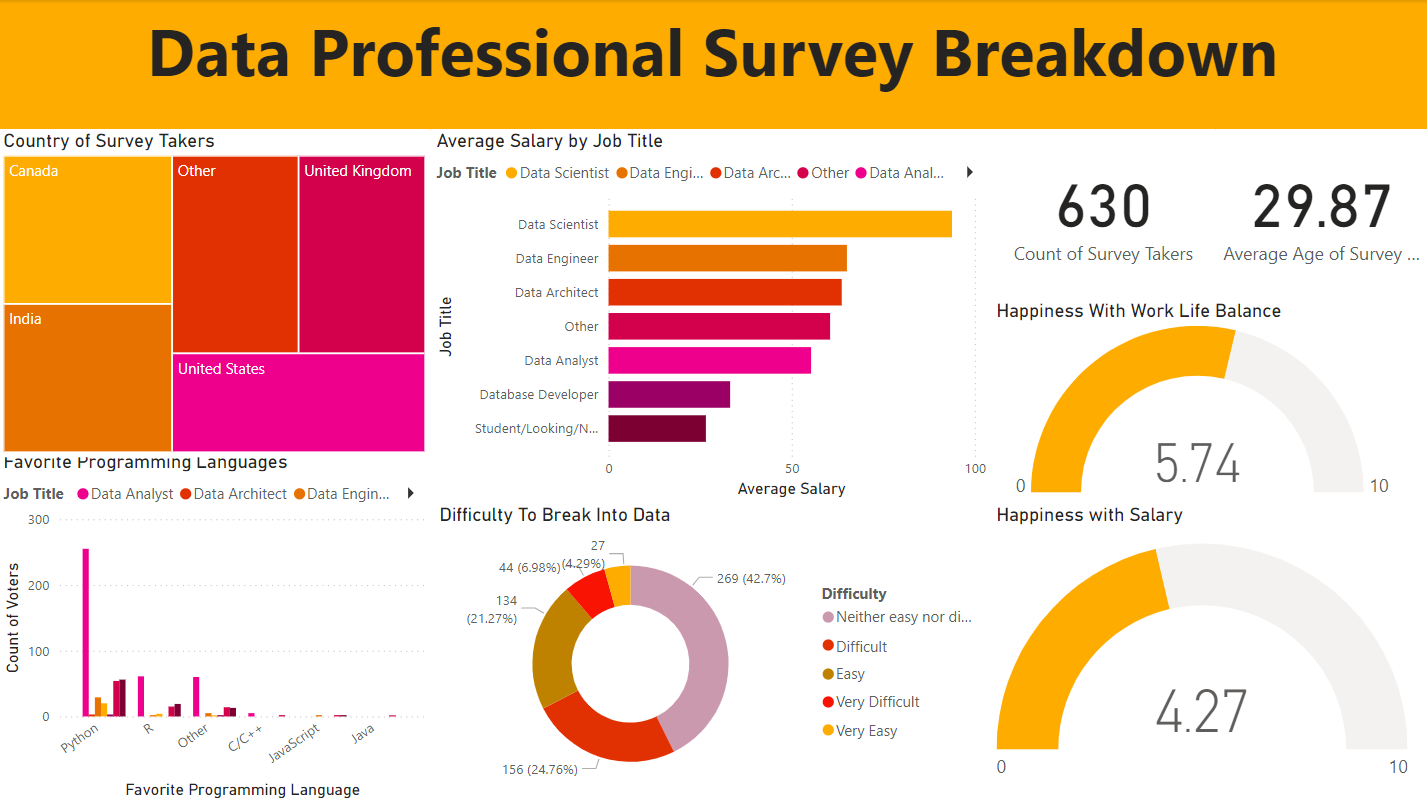

The dashboard page shown, as its layout file describes it:
{"tool":"powerbi","page":{"name":"Page 1","canvas":[1280,720],"ordinal":0},"visuals":[{"type":"textbox","box":[0,0,1280,115.5],"z":0},{"type":"card","fields":{"Values":["Count(Data Professional Survey.Unique ID)"]},"box":[889.5,115.5,201.4,145.2],"z":1000},{"type":"card","fields":{"Values":["Avg(Data Professional Survey.Q10 - Current Age)"]},"box":[1090.9,115.5,189.1,145.2],"z":2000},{"type":"barChart","title":"Average Salary by Job Title ","fields":{"Category":["Data Professional Survey.Q1 - Which Title Best Fits your Current Role?.1"],"Y":["Avg(Data Professional Survey.Average Salary)"],"Series":["Data Professional Survey.Q1 - Which Title Best Fits your Current Role?.1"]},"box":[387.5,115.5,502,335.3],"z":3000},{"type":"clusteredColumnChart","title":"Favorite Programming Languages","fields":{"Category":["Data Professional Survey.Q5 - Favorite Programming Language.1"],"Y":["CountNonNull(Data Professional Survey.Unique ID)"],"Series":["Data Professional Survey.Q1 - Which Title Best Fits your Current Role?.1"]},"box":[0,402.8,387.5,316.9],"z":4000},{"type":"treemap","title":"Country of Survey Takers","fields":{"Group":["Data Professional Survey.Q11 - Which Country do you live in?.1"],"Values":["Count(Data Professional Survey.Q11 - Which Country do you live in?.1)"]},"box":[0,115.5,387.5,294.4],"z":5000},{"type":"gauge","title":"Happiness With Work Life Balance ","fields":{"Y":["Avg(Data Professional Survey.Q6 - How Happy are you in your Current Position with the following? (Work/Life Balance))"],"MinValue":["Min(Data Professional Survey.Q6 - How Happy are you in your Current Position with the following? (Work/Life Balance))"],"MaxValue":["Max(Data Professional Survey.Q6 - How Happy are you in your Current Position with the following? (Work/Life Balance))1"]},"box":[889.5,267.9,378.3,183],"z":6000},{"type":"gauge","title":"Happiness with Salary ","fields":{"Y":["Avg(Data Professional Survey.Q6 - How Happy are you in your Current Position with the following? (Salary))"],"MinValue":["Min(Data Professional Survey.Q6 - How Happy are you in your Current Position with the following? (Salary))"],"MaxValue":["Max(Data Professional Survey.Q6 - How Happy are you in your Current Position with the following? (Salary))"]},"box":[889.5,450.9,378.3,268.9],"z":7000},{"type":"donutChart","title":"Difficulty To Break Into Data ","fields":{"Category":["Data Professional Survey.Q7 - How difficult was it for you to break into Data?"],"Y":["CountNonNull(Data Professional Survey.Q7 - How difficult was it for you to break into Data?)"]},"box":[390.5,450.9,498.9,268.9],"z":8000}]}

Visuals, with their boxes in screenshot pixels (x1, y1, x2, y2), scaled from the page's 1280x720 canvas onto the 1427x800 screenshot:
textbox: <region>0, 0, 1426, 128</region>
card - Count(Data Professional Survey.Unique ID): <region>992, 128, 1216, 290</region>
card - Avg(Data Professional Survey.Q10 - Current Age): <region>1216, 128, 1426, 290</region>
"Average Salary by Job Title " barChart: <region>432, 128, 992, 501</region>
"Favorite Programming Languages" clusteredColumnChart: <region>0, 448, 432, 799</region>
"Country of Survey Takers" treemap: <region>0, 128, 432, 455</region>
"Happiness With Work Life Balance " gauge: <region>992, 298, 1413, 501</region>
"Happiness with Salary " gauge: <region>992, 501, 1413, 799</region>
"Difficulty To Break Into Data " donutChart: <region>435, 501, 992, 799</region>
